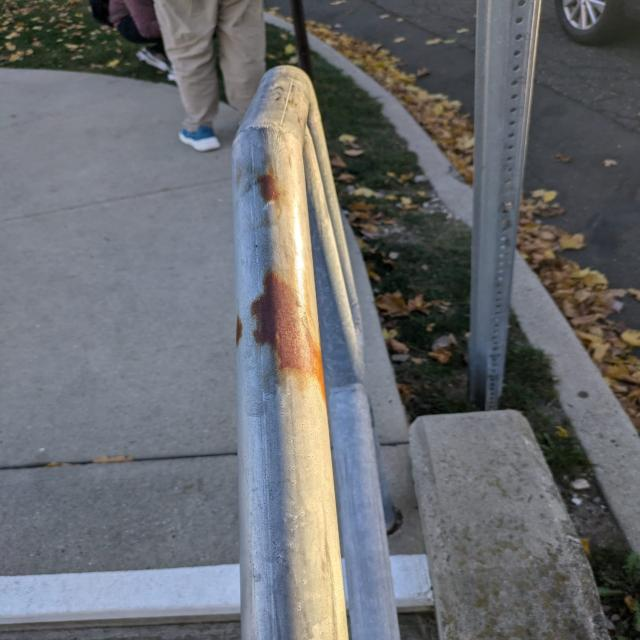Crevice Corrosion: (253, 270, 324, 397), (251, 170, 297, 215), (232, 307, 249, 350)
